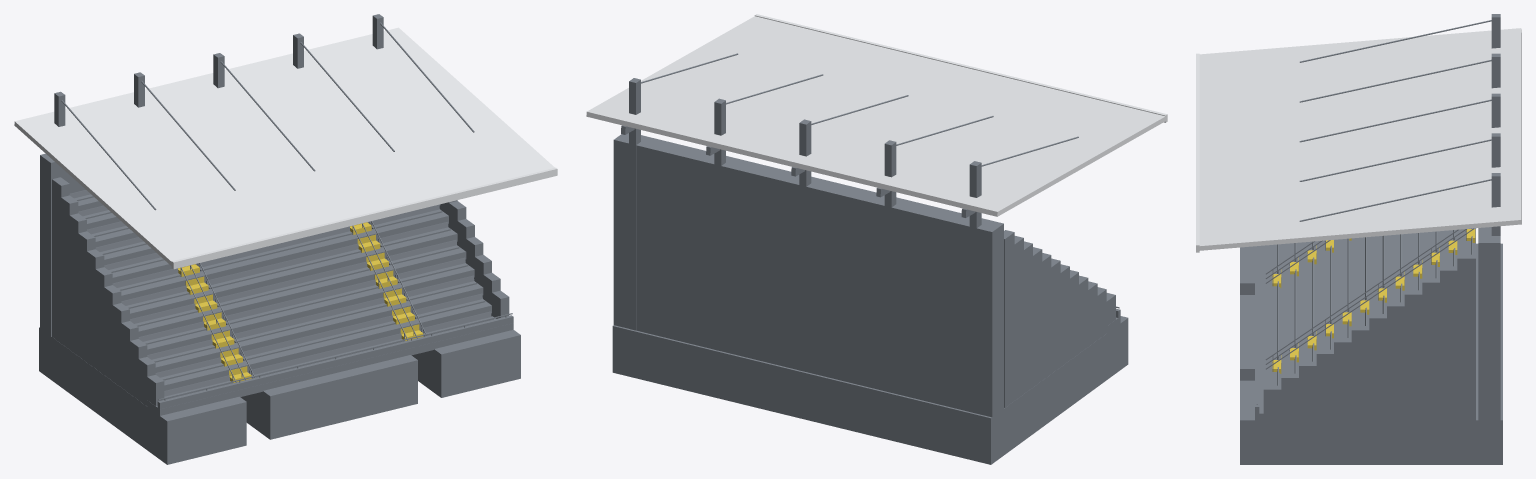
The model's file is env_grandstands_crowds.glb.
3 renders of one model, left to right at view 1: azimuth 30°, elevation 25°; view 2: azimuth 150°, elevation 25°; view 3: azimuth 270°, elevation 25°, orthographic. The views are drawn at different scales.
Visible parts, largest first — view 1: Grandstand_Tribune-col; view 2: Grandstand_Tribune-col; view 3: Grandstand_Tribune-col.
Part boxes in pixels (x1,y1,x2,y2): Grandstand_Tribune-col: (14,14,557,464); Grandstand_Tribune-col: (586,14,1167,464); Grandstand_Tribune-col: (1196,14,1521,464).
Size of the model in its own units: 30.4 by 20.8 by 21.81.
